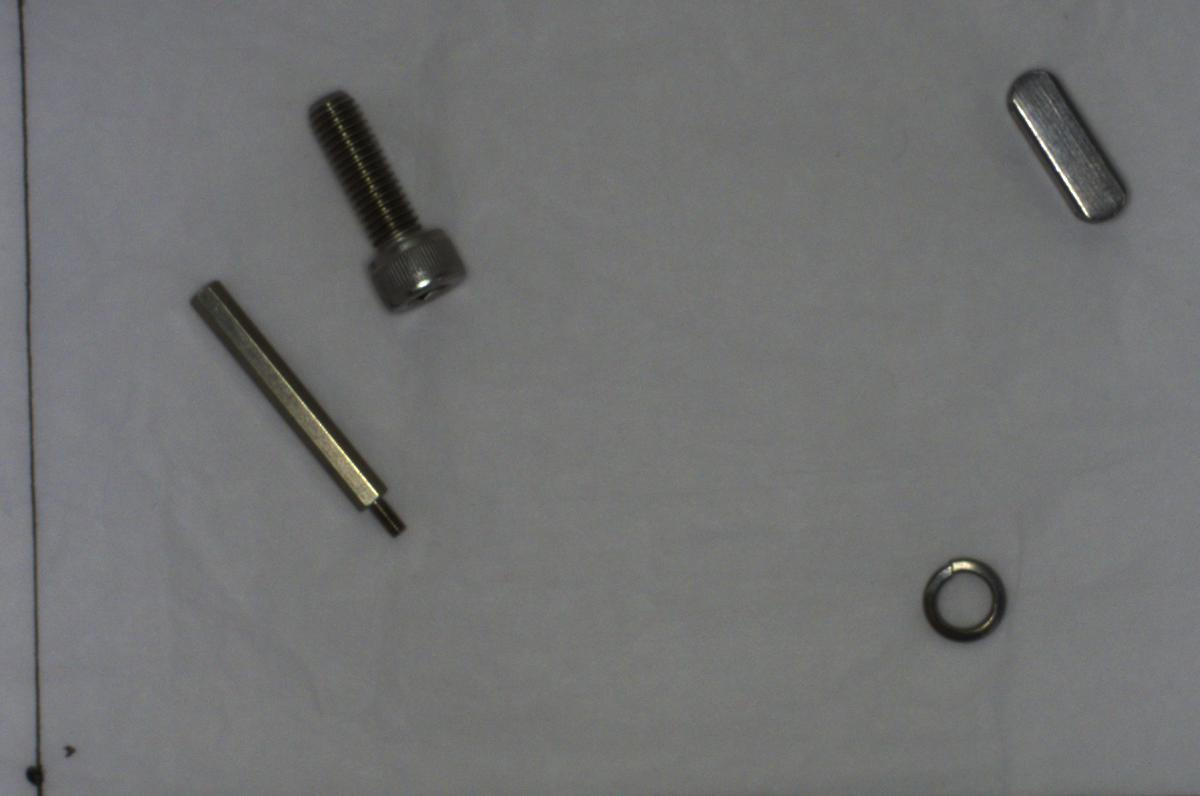Hexagon screw: (298, 80, 481, 320)
Hexagonal steel column: (181, 272, 418, 549)
Keybar: (1000, 60, 1137, 229)
Spring washer: (905, 549, 1013, 652)
